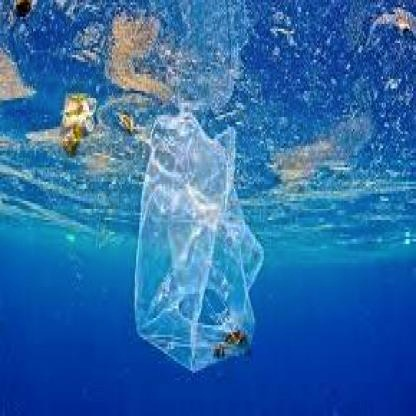pbag: (132, 107, 265, 378)
